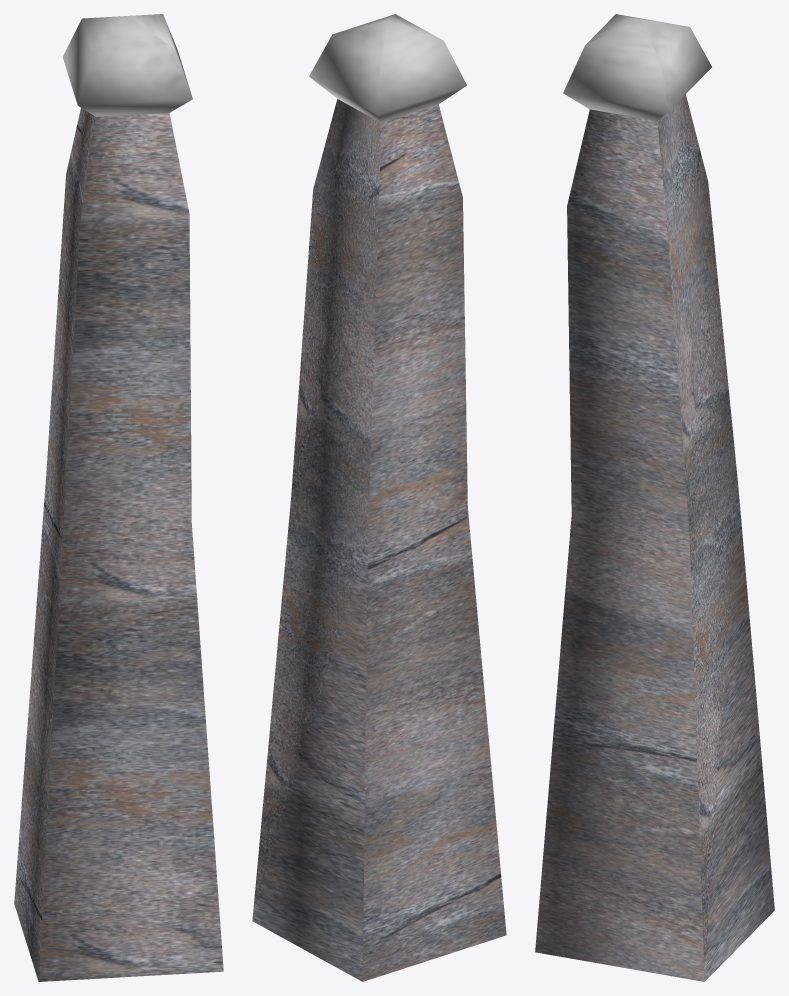
File: pillard_LOD180.glb
The picture shows the model from 3 angles, left to right: view 1: azimuth 30°, elevation 25°; view 2: azimuth 150°, elevation 25°; view 3: azimuth 270°, elevation 25°; orthographic projection. The views are drawn at different scales.
Visible parts, largest first — view 1: rock_mountain.jpg__, snowroad.jpg__; view 2: rock_mountain.jpg__, snowroad.jpg__; view 3: rock_mountain.jpg__, snowroad.jpg__.
Boxes of the visible parts, x1,y1,x2,y2 form: rock_mountain.jpg__: [14, 108, 223, 981]; snowroad.jpg__: [62, 14, 192, 116]; rock_mountain.jpg__: [252, 99, 506, 981]; snowroad.jpg__: [309, 14, 466, 122]; rock_mountain.jpg__: [535, 94, 774, 981]; snowroad.jpg__: [563, 14, 711, 121].
Bounding box in the file's own units: 2.74 × 11.51 × 2.74.
2 materials, 2 textured.
